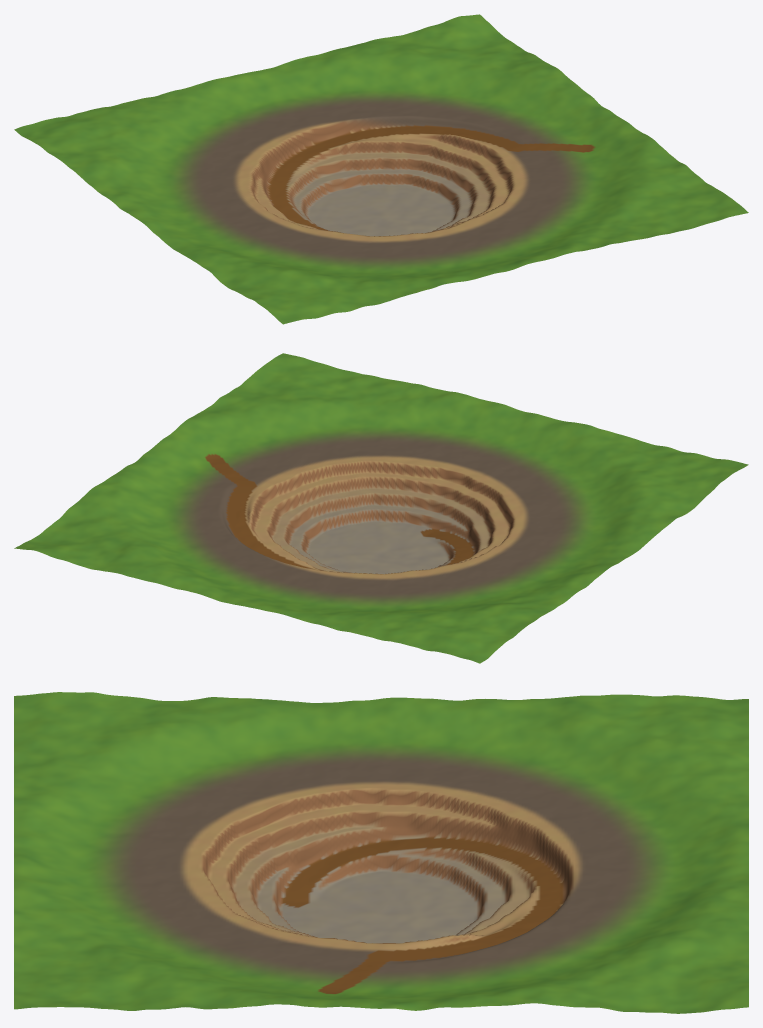
File: quarry_terrain.glb
The picture shows the model from 3 angles, top to bottom: view 1: azimuth 30°, elevation 25°; view 2: azimuth 150°, elevation 25°; view 3: azimuth 270°, elevation 25°; orthographic projection. The views are drawn at different scales.
Parts seen in each view (by area): view 1: QuarryTerrain; view 2: QuarryTerrain; view 3: QuarryTerrain.
Boxes of the visible parts, left/top/right/bottom form: QuarryTerrain: left=14, top=14, right=748, bottom=324; QuarryTerrain: left=14, top=353, right=748, bottom=663; QuarryTerrain: left=14, top=692, right=748, bottom=1013.
Size of the model in its own units: 400 by 39.87 by 400.
